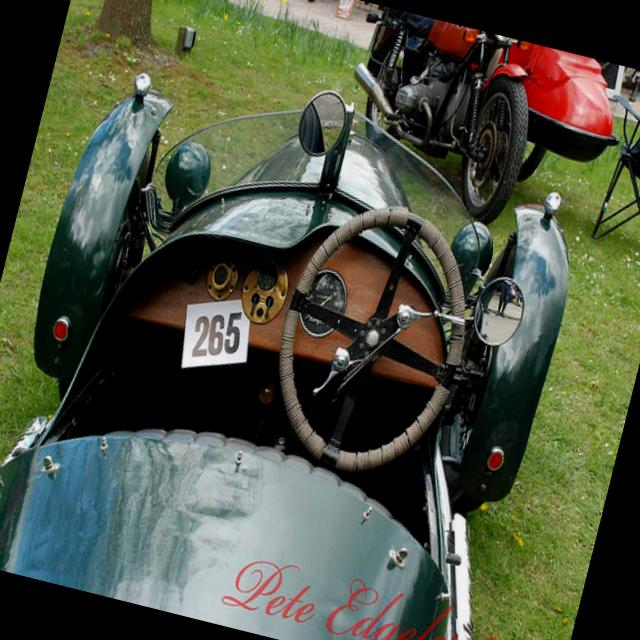Vehicle: (0, 22, 605, 640), (325, 3, 554, 231)
